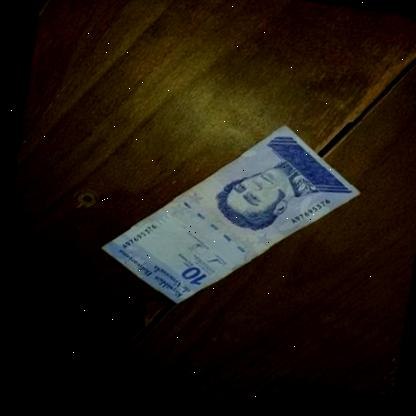ten-front-vef: (83, 91, 373, 344)
